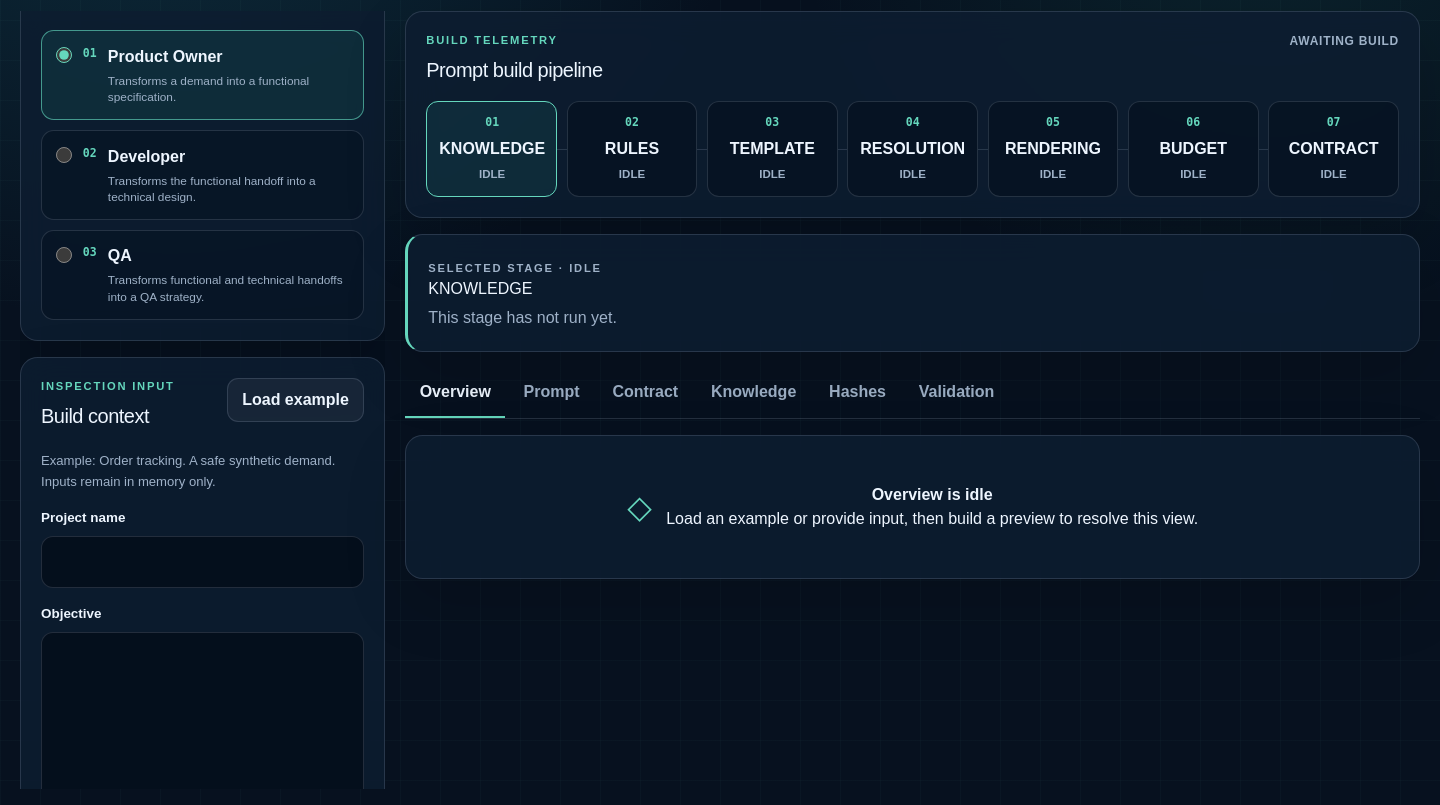
Test case: PlaygroundExperience › renders a rejected preview at its failed stage without exposing built inspectors
(page scrolled)
Expected: the radio button labelled "Product Owner" is shown, [56,47,72,63]
Click the button "Load example" at (296, 400), box [227,378,364,422]
(page scrolled)
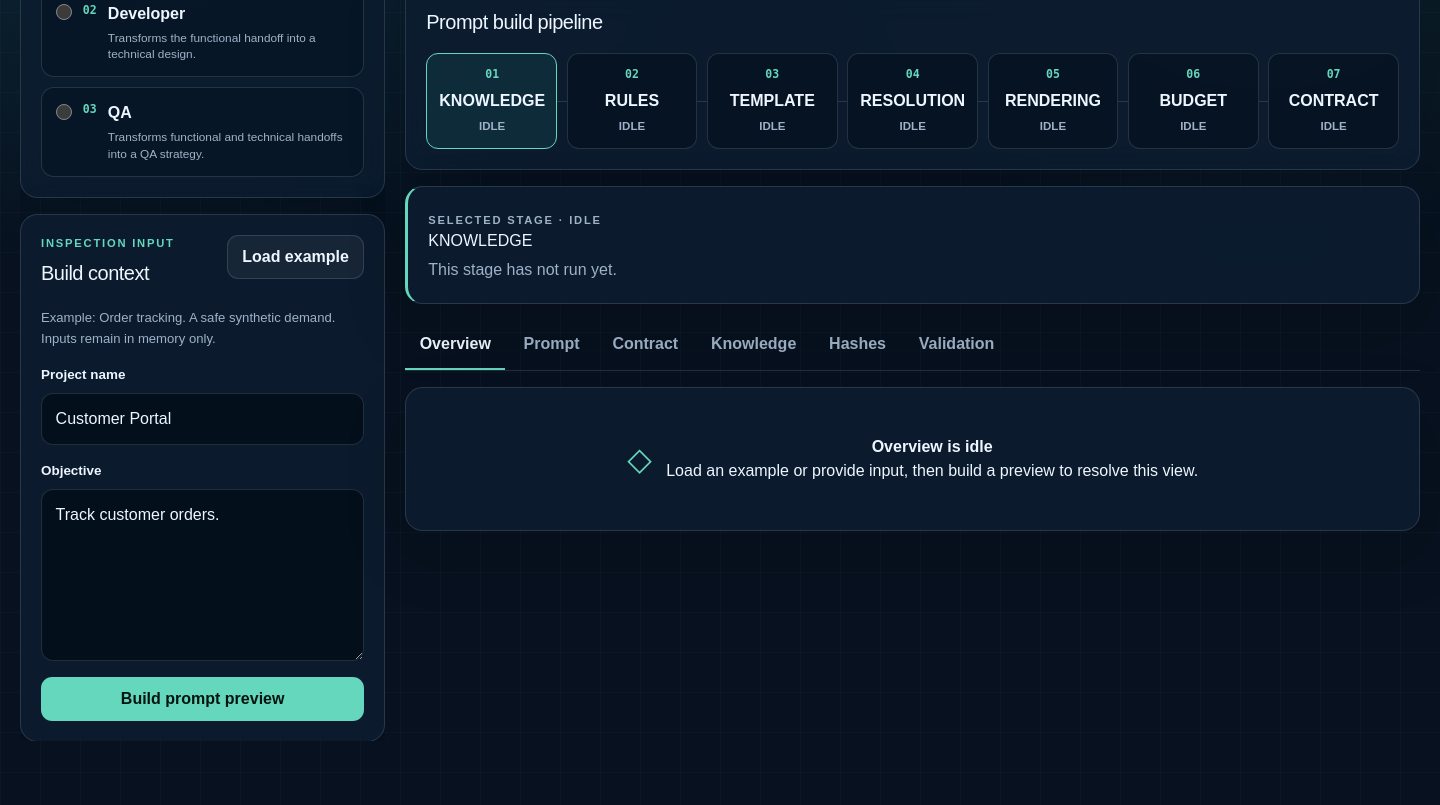
Click the button "Build prompt preview" at (203, 699), box [41,677,364,721]
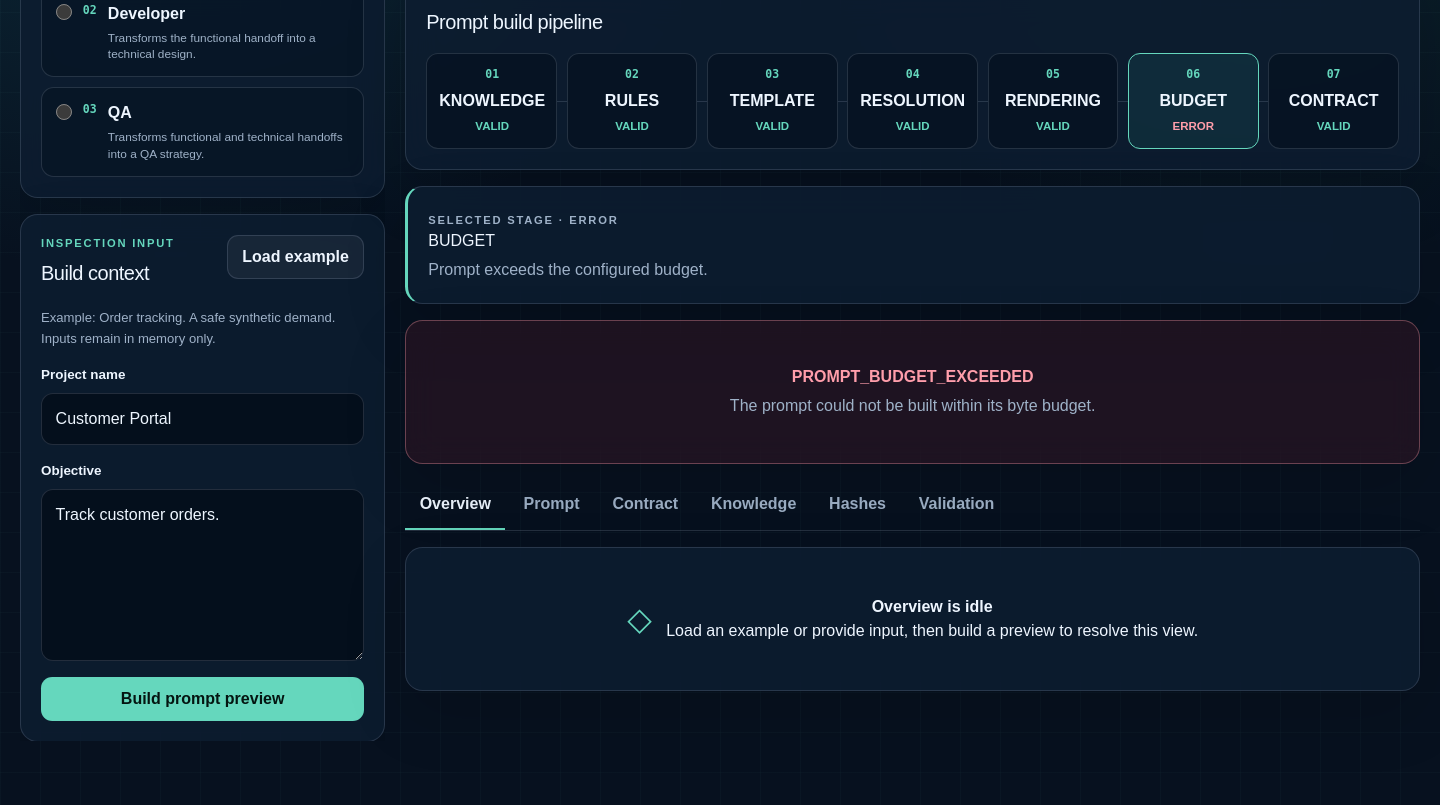
Expected: the text "Overview is idle" is shown, [872,598,993,614]
Expected: the message "PROMPT_BUDGET_EXCEEDED The prompt could not be built within its byte budget." is shown, [405,320,1420,464]
Expected: the heading "BUDGET" is shown, [428,232,495,249]
